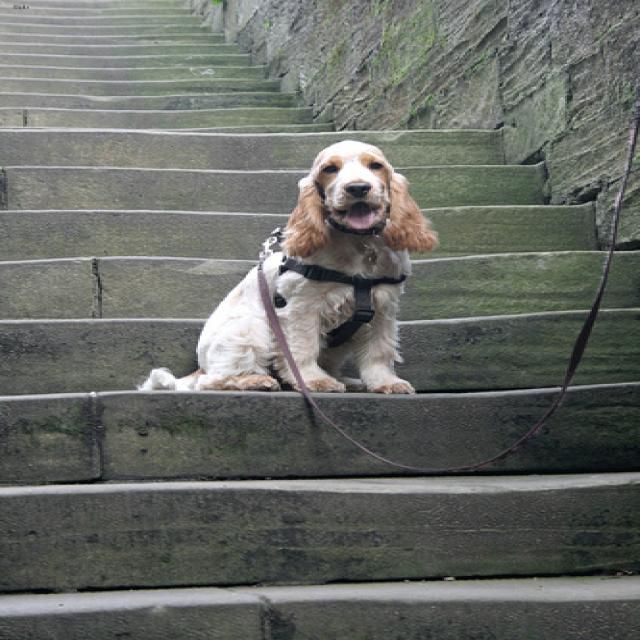dog-english_cocker_spaniel: (125, 133, 452, 403)
